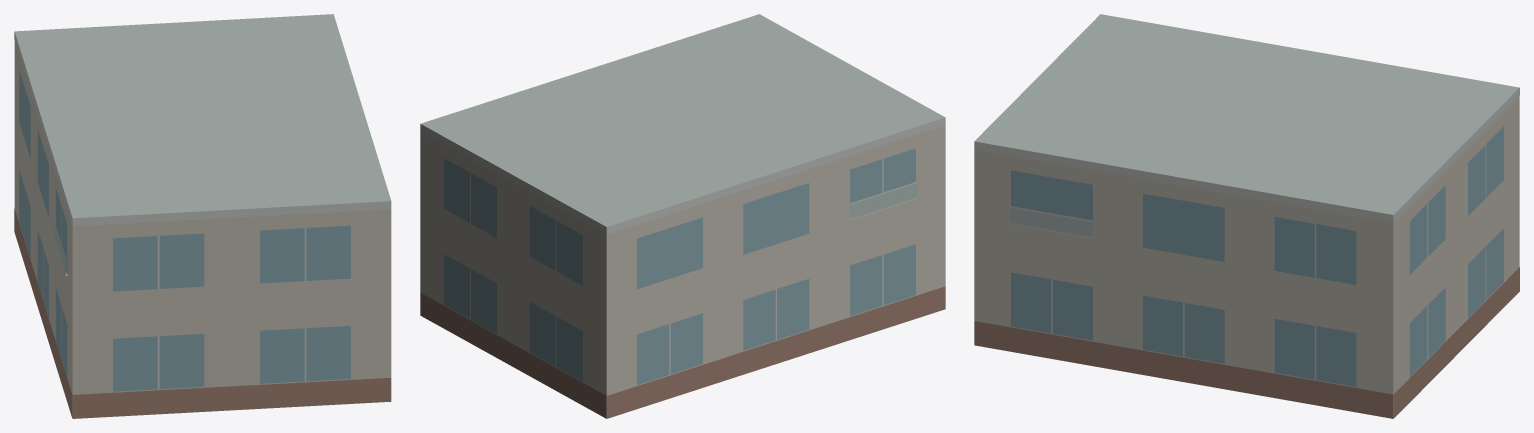
The model's file is survey-upis-32812729.glb.
3 renders of one model, left to right at view 1: azimuth 30°, elevation 25°; view 2: azimuth 150°, elevation 25°; view 3: azimuth 270°, elevation 25°, orthographic. The views are drawn at different scales.
Visible parts, largest first — view 1: survey-upis-32812729.tmp; view 2: survey-upis-32812729.tmp; view 3: survey-upis-32812729.tmp.
Part boxes in pixels (left/top/right/bottom): survey-upis-32812729.tmp: left=14, top=14, right=391, bottom=418; survey-upis-32812729.tmp: left=420, top=14, right=945, bottom=418; survey-upis-32812729.tmp: left=974, top=14, right=1519, bottom=418.
Size of the model in its own units: 12.91 by 6.1 by 14.8.
